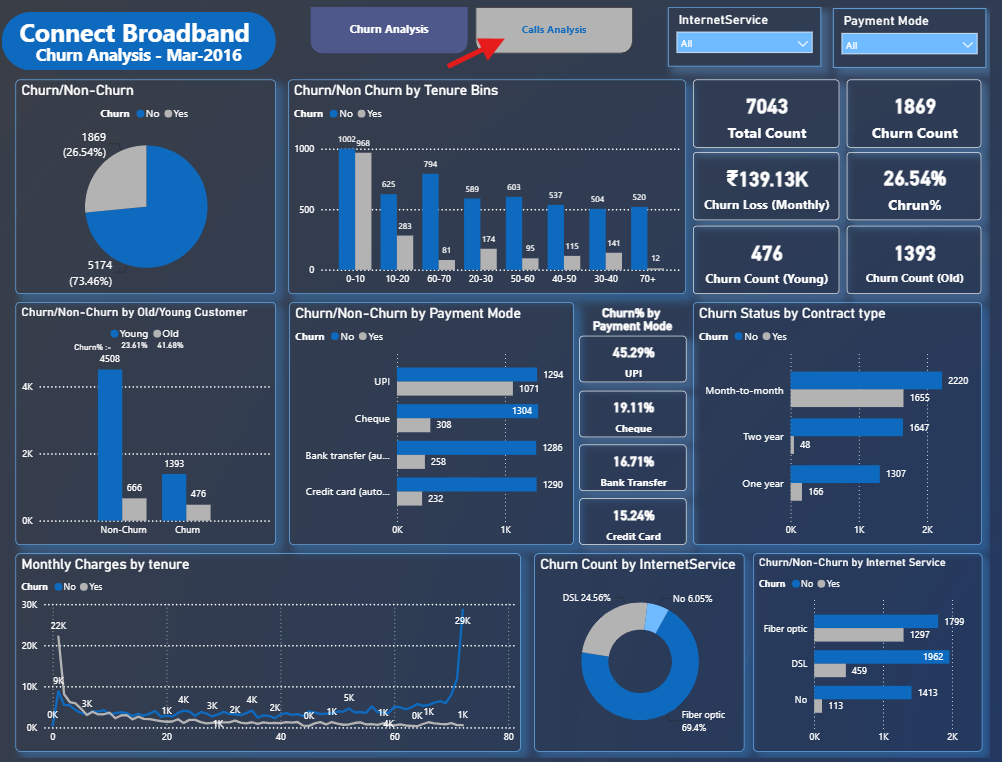

The page's visual inventory and layout, read from the dashboard file:
{"tool":"powerbi","page":{"name":"Churn Analysis","canvas":[1280,970],"ordinal":0},"visuals":[{"type":"shape","box":[4.9,6.5,353.7,75],"z":0},{"type":"textbox","box":[23.1,6.6,347.6,59.3],"z":1000},{"type":"clusteredBarChart","fields":{"Category":["TelecomData.Contract"],"Y":["Measures_Churn.TotalCount"],"Series":["TelecomData.Churn"]},"box":[897.3,380.8,372.6,313.7],"z":2000},{"type":"clusteredColumnChart","title":"Churn/Non-Churn by Old/Young Customer","fields":{"Category":["TelecomData.Churn-Non_Churn"],"Y":["Measures_Churn.TotalCount"],"Series":["TelecomData.SeniorCitizen_"]},"box":[23.3,380.8,335.6,313.7],"z":3000},{"type":"clusteredBarChart","title":"Churn/Non-Churn by Payment Mode","fields":{"Category":["TelecomData.PaymentMethod"],"Series":["TelecomData.Churn"],"Y":["Measures_Churn.Churn/TotalValue"]},"box":[375.3,380.8,367.1,313.7],"z":4000},{"type":"clusteredColumnChart","title":"Churn/Non Churn by Tenure Bins","fields":{"Category":["TelecomData.Tenure_Bin"],"Series":["TelecomData.Churn"],"Y":["Measures_Churn.TotalCount"]},"box":[374.9,93.3,513.4,277.1],"z":5000},{"type":"pieChart","title":"Churn/Non-Churn","fields":{"Y":["Measures_Churn.TotalCount"],"Category":["TelecomData.Churn"]},"box":[22.8,93.3,335.8,277.1],"z":6000},{"type":"slicer","fields":{"Values":["TelecomData.InternetService"]},"box":[863.8,0,197.2,76.6],"z":7000},{"type":"slicer","fields":{"Values":["TelecomData.PaymentMethod"]},"box":[1077.4,1.6,197.2,76.6],"z":8000},{"type":"lineChart","title":"Monthly Charges by tenure","fields":{"Category":["TelecomData.tenure"],"Series":["TelecomData.Churn"],"Y":["Sum(TelecomData.MonthlyCharges)"]},"box":[22.8,704.1,652,255.9],"z":9000},{"type":"card","fields":{"Values":["Measures_Churn.Chrun%"]},"box":[146,423,59,32],"z":10000},{"type":"card","fields":{"Values":["Measures_Churn.Chrun%"]},"box":[195,423,55,32],"z":11000},{"type":"card","fields":{"Values":["Measures_Churn.ChurnText"]},"box":[76.5,423.5,96.3,32.1],"z":12000},{"type":"card","fields":{"Values":["Measures_Churn.TotalCount"]},"box":[897.3,93.2,189,88],"z":13000},{"type":"card","fields":{"Values":["Measures_Churn.Churn_Count"]},"box":[1095.9,93.2,174,88],"z":14000},{"type":"card","fields":{"Values":["Measures_Churn.ChurnMonthlyCharges"]},"box":[897.3,187.7,189,87.7],"z":15000},{"type":"card","fields":{"Values":["Measures_Churn.Churn_Count"]},"box":[897.3,282.2,189,87.7],"z":16000},{"type":"card","fields":{"Values":["Measures_Churn.Churn_Count"]},"box":[1095.9,282.2,174,87.7],"z":17000},{"type":"card","fields":{"Values":["Measures_Churn.Chrun%"]},"box":[1095.9,187.7,174,87.7],"z":18000},{"type":"card","fields":{"Values":["Measures_Churn.Chrun%"]},"box":[750.7,424.7,138.4,60.3],"z":19000},{"type":"card","fields":{"Values":["Measures_Churn.Churn%Text"]},"box":[750.7,374,138.4,58.9],"z":20000},{"type":"card","fields":{"Values":["Measures_Churn.Chrun%"]},"box":[750.7,494.5,138.4,60.3],"z":21000},{"type":"card","fields":{"Values":["Measures_Churn.Chrun%"]},"box":[750.7,564.4,138.4,60.3],"z":22000},{"type":"card","fields":{"Values":["Measures_Churn.Chrun%"]},"box":[750.7,634.2,138.4,60.3],"z":23000},{"type":"clusteredBarChart","title":"Churn/Non-Churn by Internet Service","fields":{"Y":["Measures_Churn.TotalCount"],"Series":["TelecomData.Churn"],"Category":["TelecomData.InternetService"]},"box":[974,704.1,295.9,256.2],"z":24000},{"type":"donutChart","fields":{"Category":["TelecomData.InternetService"],"Y":["Measures_Churn.Churn_Count"]},"box":[691.8,704.1,271.2,256.2],"z":25000},{"type":"pageNavigator","box":[404,0,416,60],"z":26000},{"type":"textbox","box":[42.8,41.2,332.8,46.1],"z":26001}]}

Visuals, with their boxes in screenshot pixels (x1, y1, x2, y2), scaled from the page's 1280x970 canvas onto the 1002x762 screenshot:
shape: [x1=4, y1=5, x2=281, y2=64]
textbox: [x1=18, y1=5, x2=290, y2=52]
clusteredBarChart - TelecomData.Contract x Measures_Churn.TotalCount: [x1=702, y1=299, x2=994, y2=546]
"Churn/Non-Churn by Old/Young Customer" clusteredColumnChart: [x1=18, y1=299, x2=281, y2=546]
"Churn/Non-Churn by Payment Mode" clusteredBarChart: [x1=294, y1=299, x2=581, y2=546]
"Churn/Non Churn by Tenure Bins" clusteredColumnChart: [x1=293, y1=73, x2=695, y2=291]
"Churn/Non-Churn" pieChart: [x1=18, y1=73, x2=281, y2=291]
slicer - TelecomData.InternetService: [x1=676, y1=0, x2=831, y2=60]
slicer - TelecomData.PaymentMethod: [x1=843, y1=1, x2=998, y2=61]
"Monthly Charges by tenure" lineChart: [x1=18, y1=553, x2=528, y2=754]
card - Measures_Churn.Chrun%: [x1=114, y1=332, x2=160, y2=357]
card - Measures_Churn.Chrun%: [x1=153, y1=332, x2=196, y2=357]
card - Measures_Churn.ChurnText: [x1=60, y1=333, x2=135, y2=358]
card - Measures_Churn.TotalCount: [x1=702, y1=73, x2=850, y2=142]
card - Measures_Churn.Churn_Count: [x1=858, y1=73, x2=994, y2=142]
card - Measures_Churn.ChurnMonthlyCharges: [x1=702, y1=147, x2=850, y2=216]
card - Measures_Churn.Churn_Count: [x1=702, y1=222, x2=850, y2=291]
card - Measures_Churn.Churn_Count: [x1=858, y1=222, x2=994, y2=291]
card - Measures_Churn.Chrun%: [x1=858, y1=147, x2=994, y2=216]
card - Measures_Churn.Chrun%: [x1=588, y1=334, x2=696, y2=381]
card - Measures_Churn.Churn%Text: [x1=588, y1=294, x2=696, y2=340]
card - Measures_Churn.Chrun%: [x1=588, y1=388, x2=696, y2=436]
card - Measures_Churn.Chrun%: [x1=588, y1=443, x2=696, y2=491]
card - Measures_Churn.Chrun%: [x1=588, y1=498, x2=696, y2=546]
"Churn/Non-Churn by Internet Service" clusteredBarChart: [x1=762, y1=553, x2=994, y2=754]
donutChart - TelecomData.InternetService x Measures_Churn.Churn_Count: [x1=542, y1=553, x2=754, y2=754]
pageNavigator: [x1=316, y1=0, x2=642, y2=47]
textbox: [x1=34, y1=32, x2=294, y2=69]
